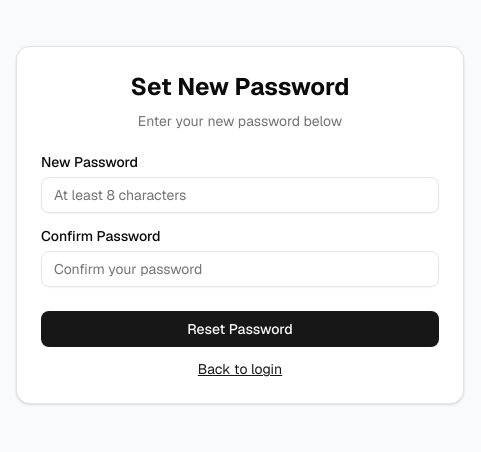
Test case: ResetPasswordPage › shows error when passwords do not match
Type "password123" into the password field labelled "New Password" at (240, 195), box [41,177,439,213]
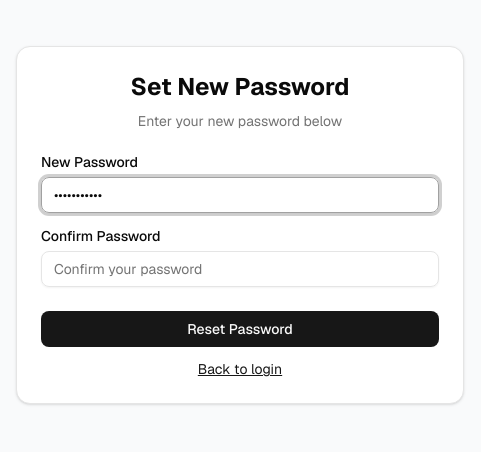
Type "different123" into the password field labelled "Confirm Password" at (240, 269), box [41,251,439,287]
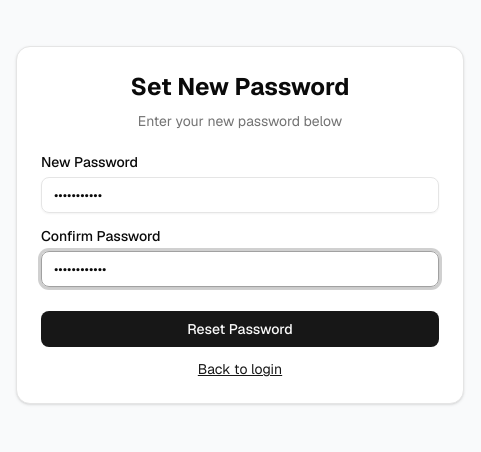
Click the button "Reset Password" at (240, 329), box [41,311,439,347]
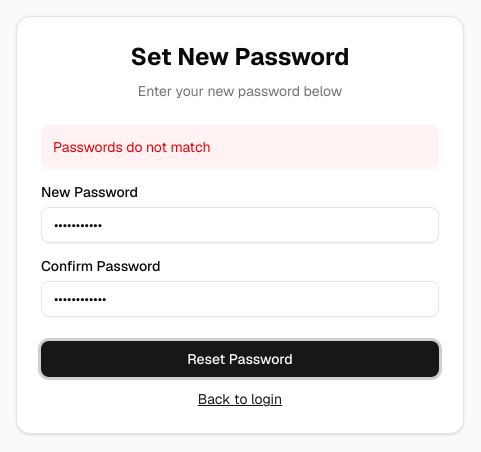
Expected: the text "Passwords do not match" is shown, [41,125,439,169]
